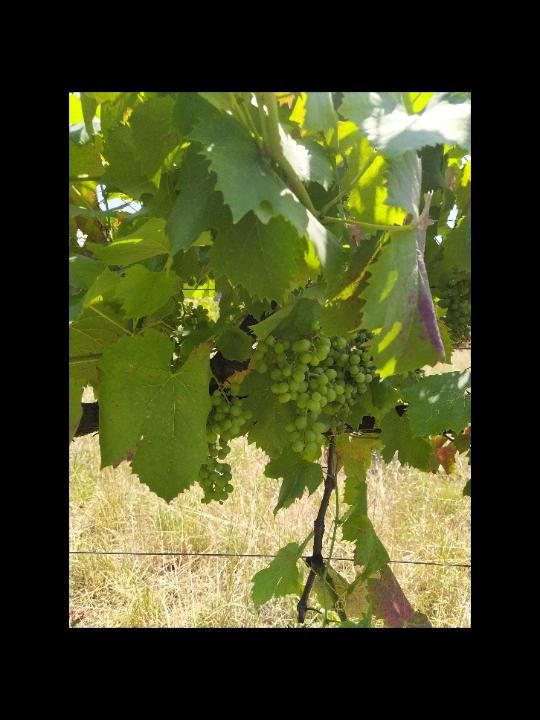grape: (255, 335, 378, 466), (199, 385, 253, 507)
